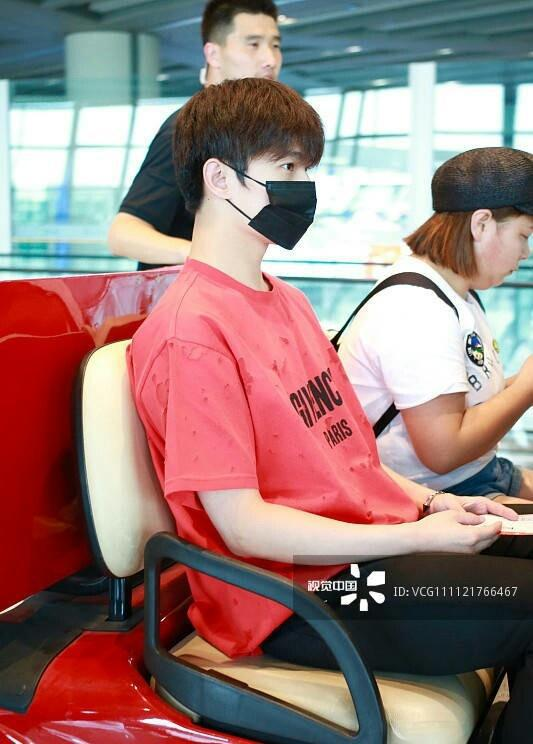NONE: (460, 219, 533, 288), (224, 31, 286, 94)
OK: (225, 145, 332, 252)
